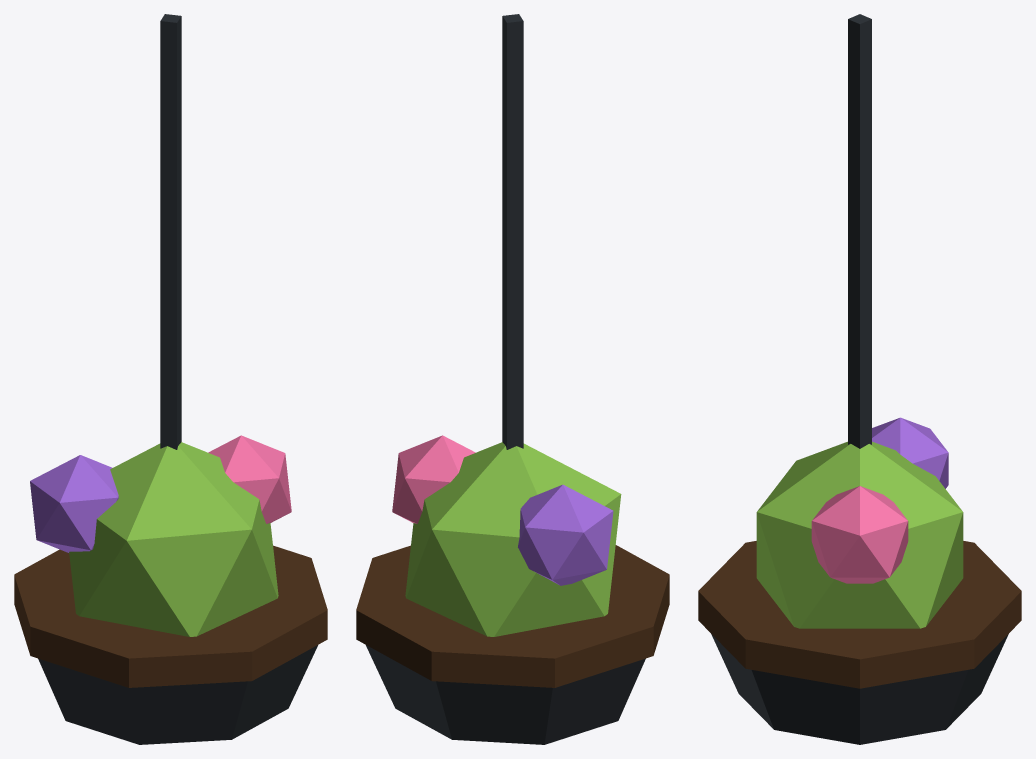
Rendered from patio_hanging_basket.glb.
The picture shows the model from 3 angles, left to right: view 1: azimuth 30°, elevation 25°; view 2: azimuth 150°, elevation 25°; view 3: azimuth 270°, elevation 25°; orthographic projection.
Visible parts, largest first — view 1: hanging_basket; view 2: hanging_basket; view 3: hanging_basket.
Part boxes in pixels (x1,y1,x2,y2): hanging_basket: (14, 14, 327, 744); hanging_basket: (356, 14, 669, 744); hanging_basket: (698, 14, 1021, 744).
Size of the model in its own units: 0.4 by 0.92 by 0.4.
